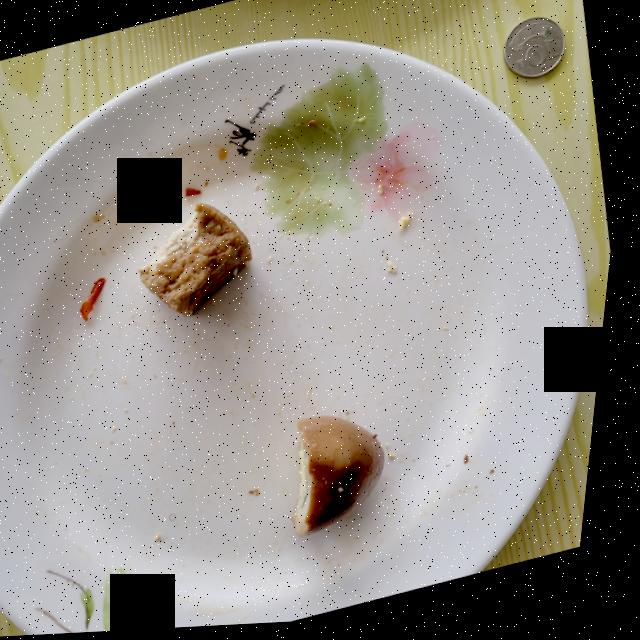coin: (505, 22, 566, 82)
creamy tofu: (144, 204, 258, 317)
soy egg: (302, 418, 395, 539)
